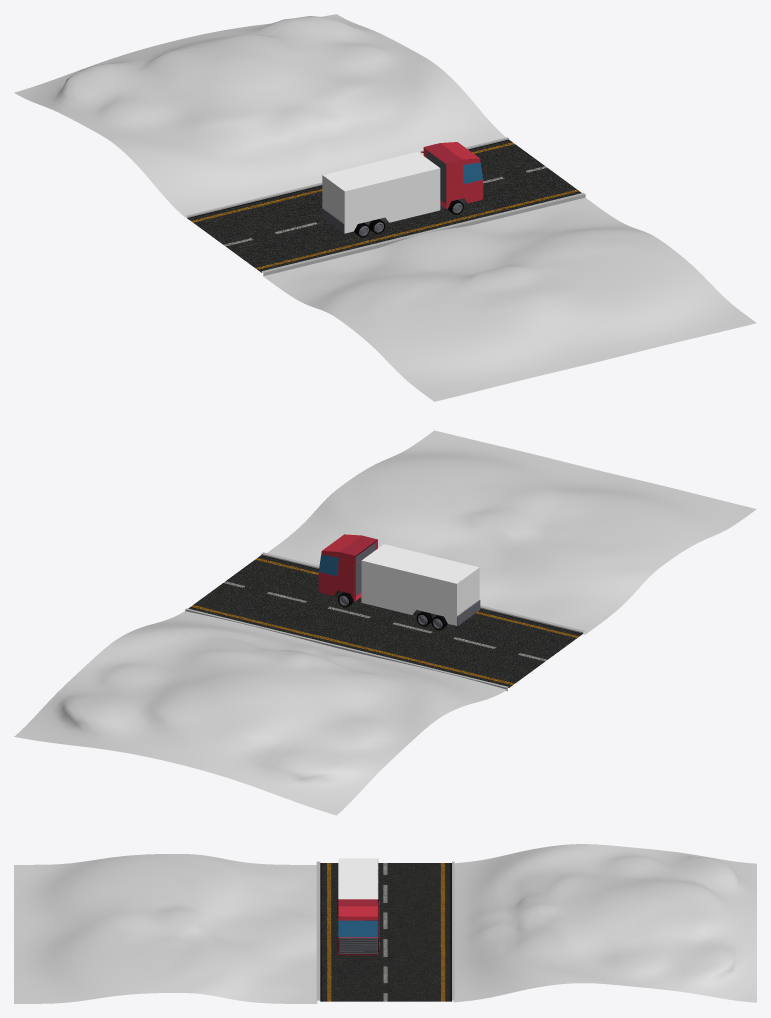
Rendered from kamion.glb.
3 renders of one model, top to bottom at view 1: azimuth 30°, elevation 25°; view 2: azimuth 150°, elevation 25°; view 3: azimuth 270°, elevation 25°, orthographic. The views are drawn at different scales.
Parts seen in each view (by area): view 1: Plane, kamion_cesta, kamion_naklad, kamion; view 2: Plane, kamion_cesta, kamion_naklad, kamion; view 3: Plane, kamion_cesta, kamion, kamion_naklad.
Boxes of the visible parts, x1,y1,x2,y2 form: Plane: [14, 14, 756, 401]; kamion_cesta: [185, 137, 585, 275]; kamion_naklad: [322, 151, 440, 233]; kamion: [321, 142, 483, 233]; Plane: [14, 430, 756, 815]; kamion_cesta: [185, 552, 584, 691]; kamion_naklad: [361, 544, 479, 625]; kamion: [318, 534, 480, 626]; Plane: [14, 844, 756, 1003]; kamion_cesta: [316, 861, 454, 1001]; kamion: [338, 899, 379, 955]; kamion_naklad: [338, 858, 378, 899].
Size of the model in its own units: 16.01 by 2.67 by 36.13.
Materials: 3 (3 with a texture image).
